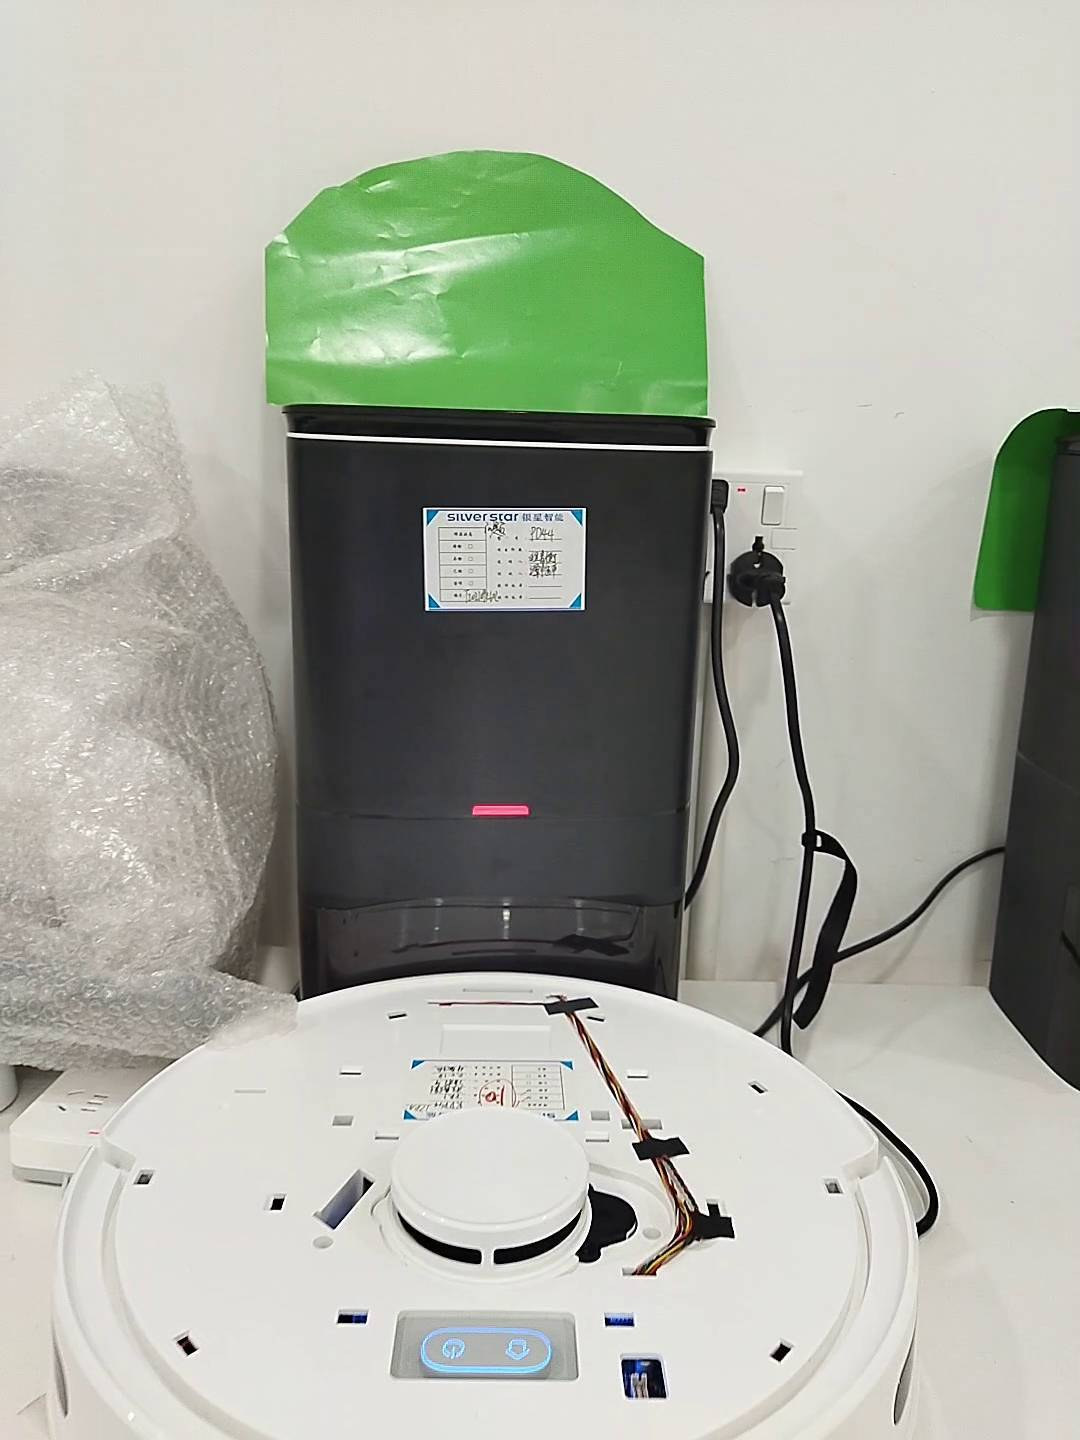dust collecting barrel: (282, 403, 716, 1017)
